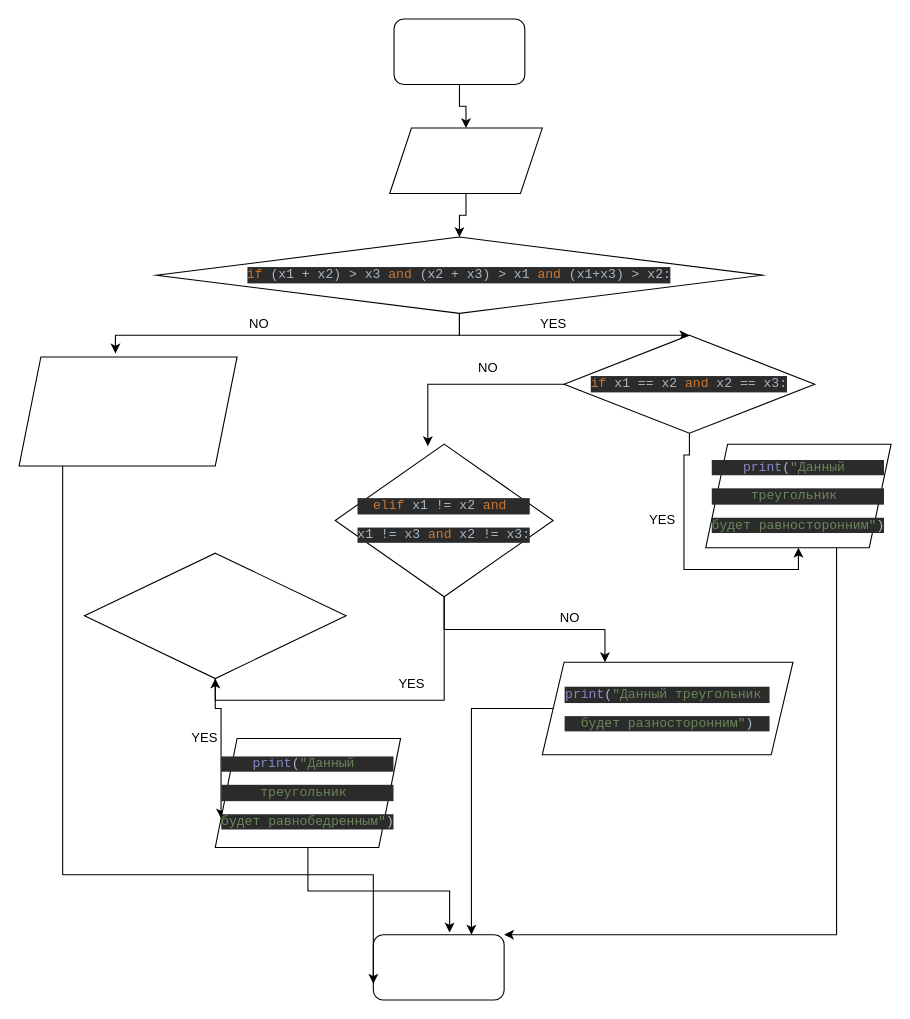
The diagram is 910 pixels wide and 1019 high, and some of its shapes have lost their labels. Each missing label, with the centre of its shape:
elif x1 == x2 or x2 == x3 or x1 == x3:: (x=214, y=615)
print ( "Из данных отрезков нельзя построить треугольник!" ): (x=127, y=411)
x1,x2,x3: (x=465, y=160)
